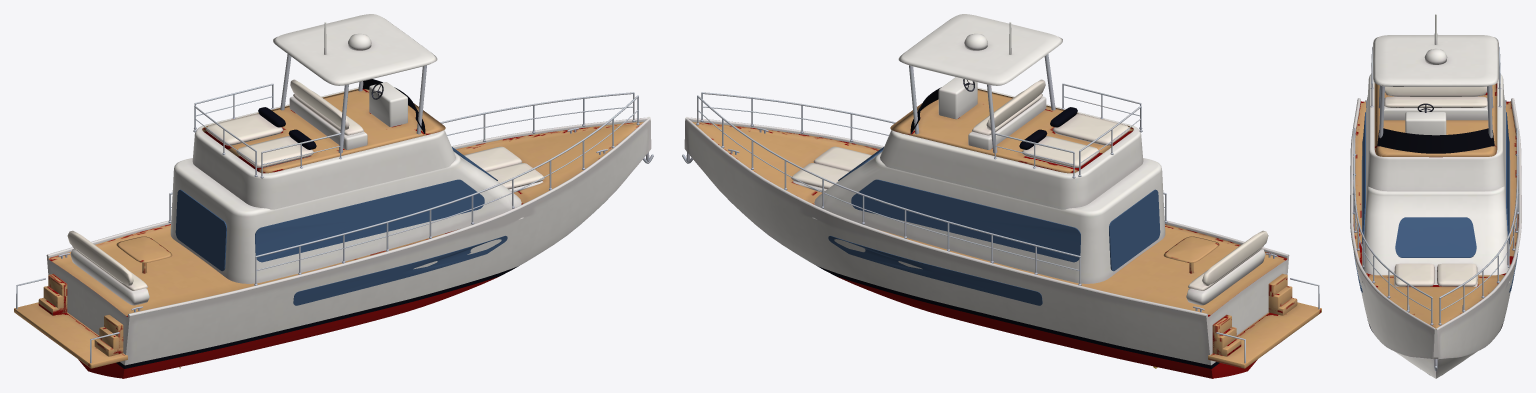
Rendered from lancha-focker-230-cabinada.glb.
The picture shows the model from 3 angles, left to right: view 1: azimuth 30°, elevation 25°; view 2: azimuth 150°, elevation 25°; view 3: azimuth 270°, elevation 25°; orthographic projection. The views are drawn at different scales.
Visible parts, largest first — view 1: yacht_body, yacht_salon_windows, yacht_hull_windows; view 2: yacht_body, yacht_salon_windows, yacht_hull_windows; view 3: yacht_body, yacht_salon_windows.
Boxes of the visible parts, x1,y1,x2,y2 form: yacht_body: (14, 14, 653, 378); yacht_salon_windows: (175, 147, 497, 271); yacht_hull_windows: (293, 235, 507, 305); yacht_body: (682, 14, 1321, 378); yacht_salon_windows: (838, 147, 1160, 271); yacht_hull_windows: (828, 235, 1042, 305); yacht_body: (1350, 14, 1521, 378); yacht_salon_windows: (1362, 112, 1509, 257).
Size of the model in its own units: 7.01 by 3.29 by 1.83.
7 materials, 1 textured.
